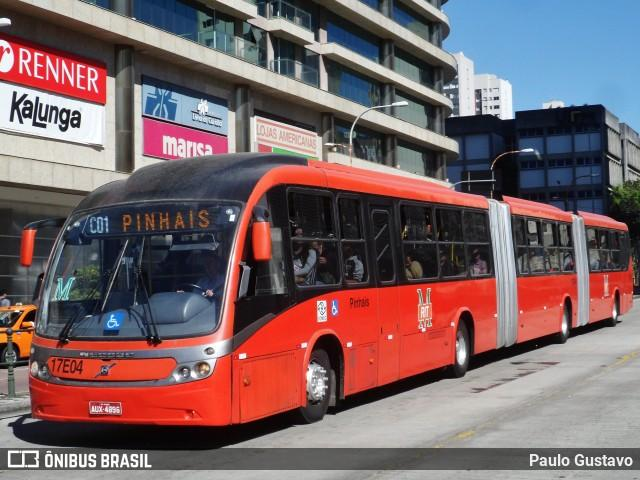PINHAIS: (118, 206, 212, 236)
